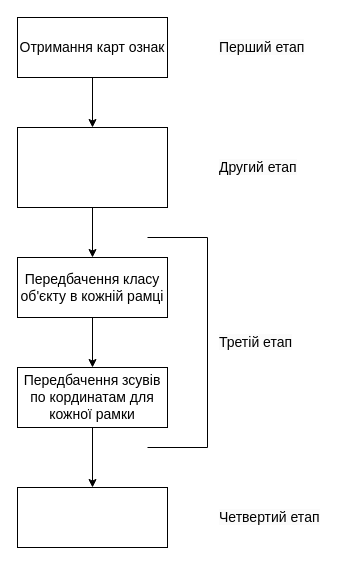
This 355x565 diagram has some shape labels left out. The shapes that lost their labels are listed below. From the top down, each one's centre as x and y in pixels, then its label:
At (92,167): "Генерація обмежувальних рамок за замовчуванням для кожної карти ознак".
At (92,517): "Вибір локальних максимумів".
